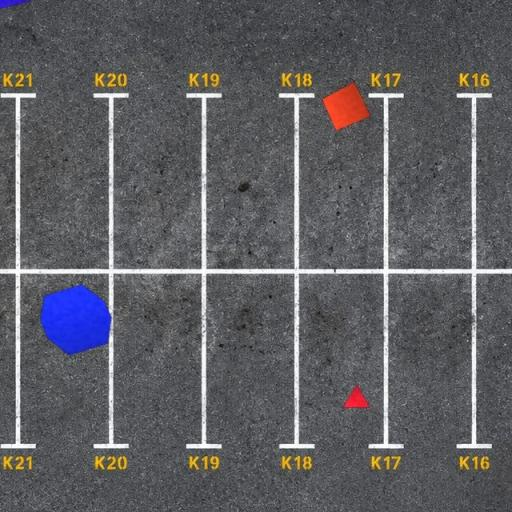RED_SQUARE: (321, 82, 372, 131)
